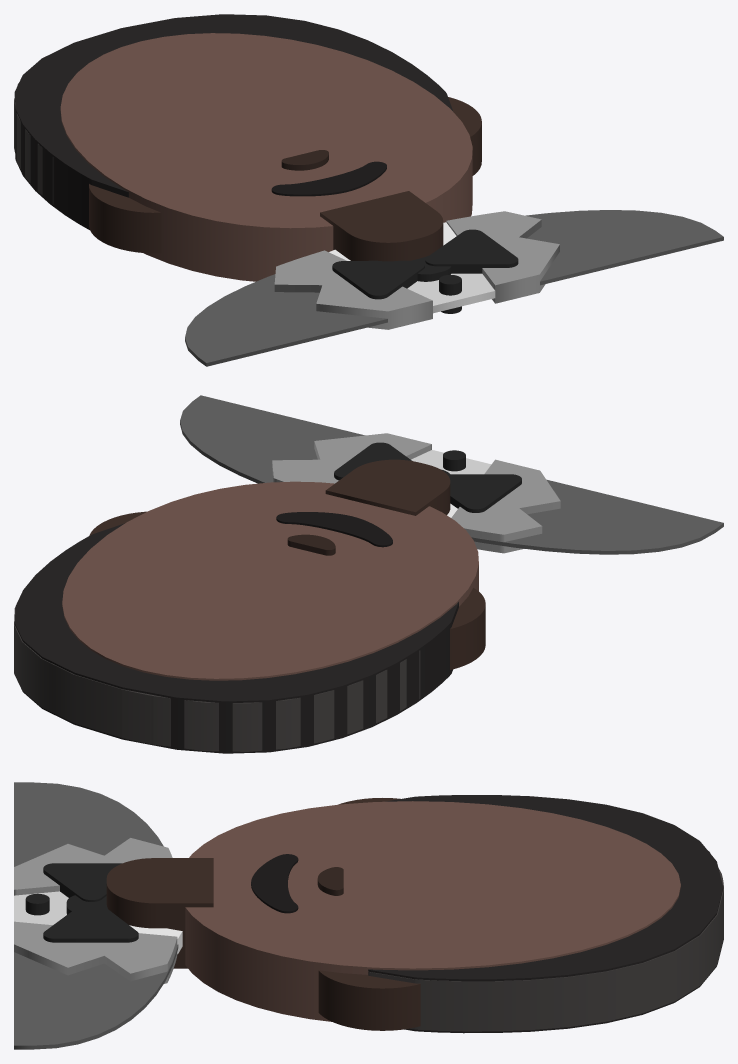
Rendered from emoji_u1f935_1f3ff_200d_2642.glb.
3 renders of one model, top to bottom at view 1: azimuth 30°, elevation 25°; view 2: azimuth 150°, elevation 25°; view 3: azimuth 270°, elevation 25°, orthographic. The views are drawn at different scales.
Parts seen in each view (by area): view 1: emoji_u1f935_1f3ff_200d_2642; view 2: emoji_u1f935_1f3ff_200d_2642; view 3: emoji_u1f935_1f3ff_200d_2642.
Part boxes in pixels (x1=…): emoji_u1f935_1f3ff_200d_2642: x1=14, y1=14, x2=723, y2=366; emoji_u1f935_1f3ff_200d_2642: x1=14, y1=395, x2=723, y2=753; emoji_u1f935_1f3ff_200d_2642: x1=14, y1=782, x2=723, y2=1049.
Bounding box in the file's own units: 0.0294 × 0.0036 × 0.0334.
